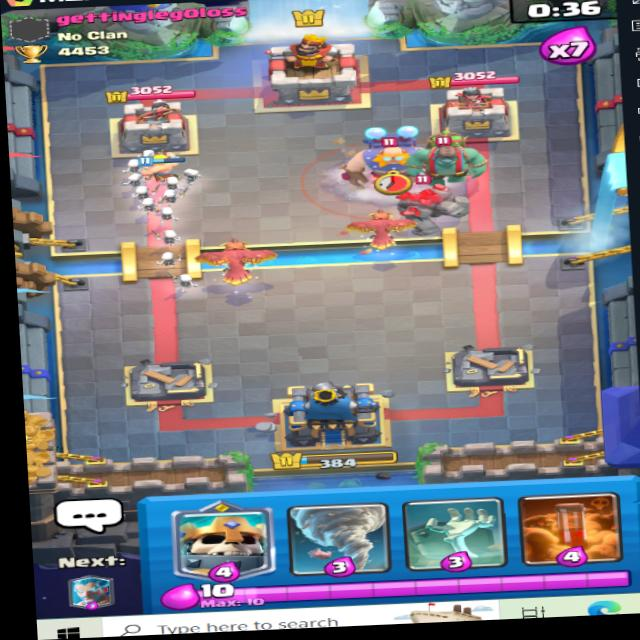electro-giant: (337, 123, 438, 186)
goblin-giant: (410, 132, 485, 186)
golem: (386, 170, 484, 236)
